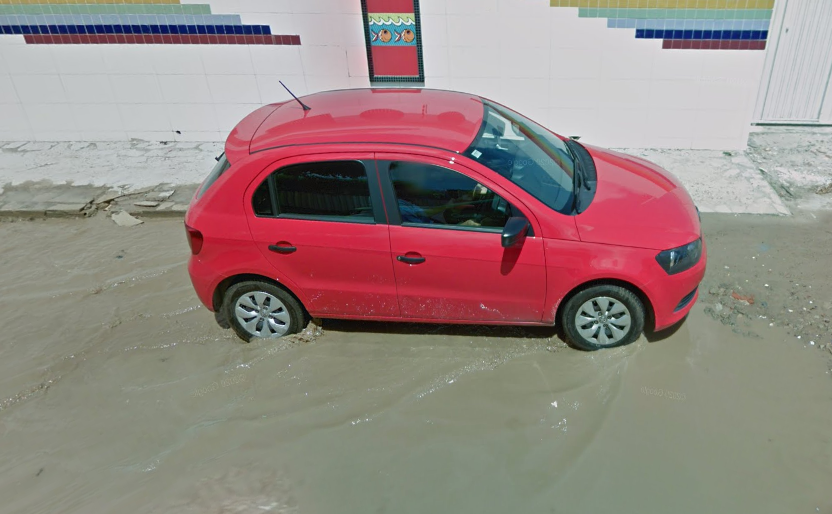car: (181, 78, 708, 352)
